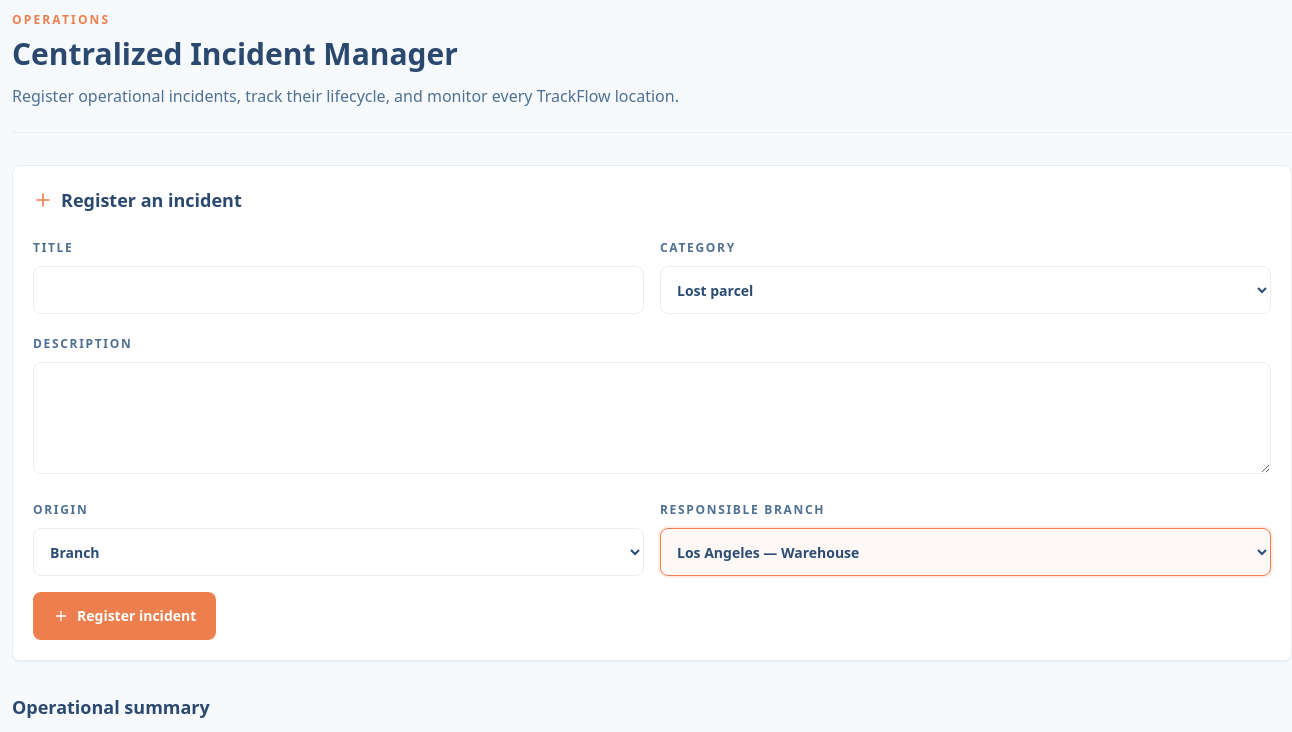
it: incident manager › validates required fields before creating
Click the button "Register incident" at {"x": 125, "y": 616}, box x1=33 y1=592 x2=216 y2=640
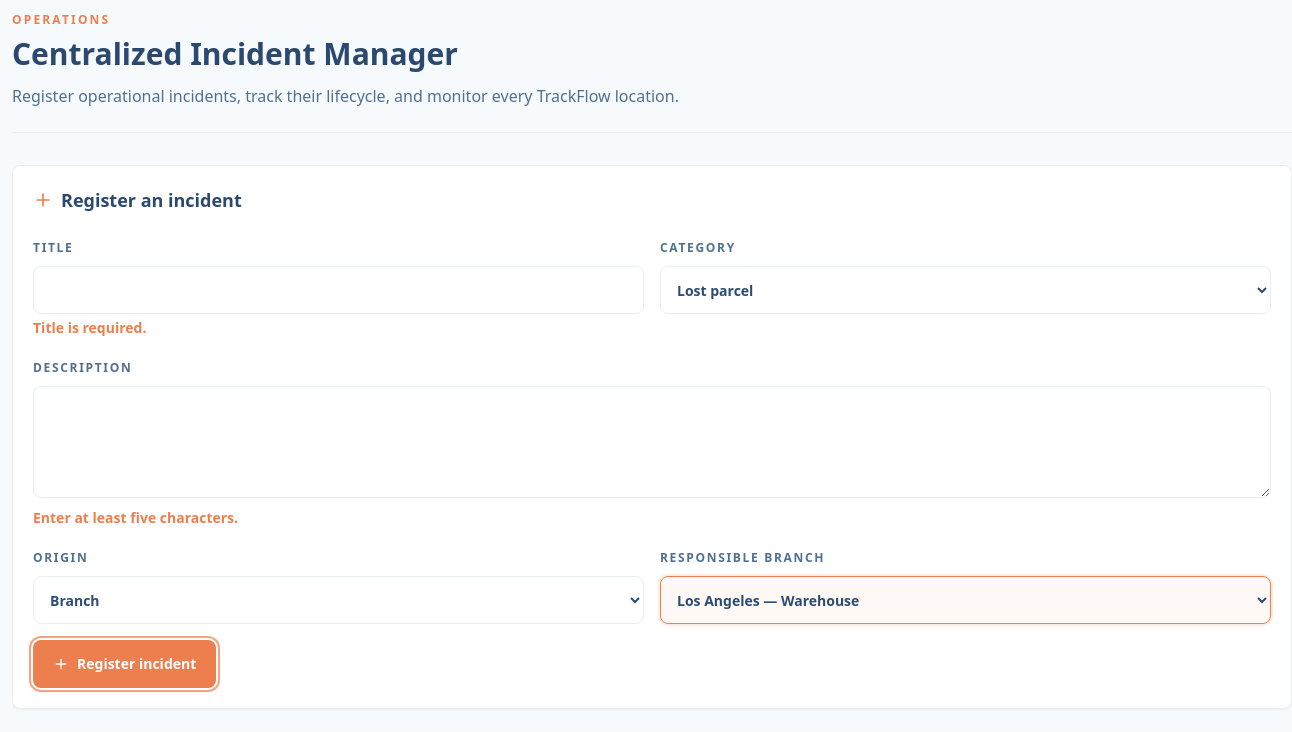
Result: the text "Title is required." is shown at x1=33 y1=318 x2=146 y2=337
Result: the text "Enter at least five characters." is shown at x1=33 y1=508 x2=238 y2=527
